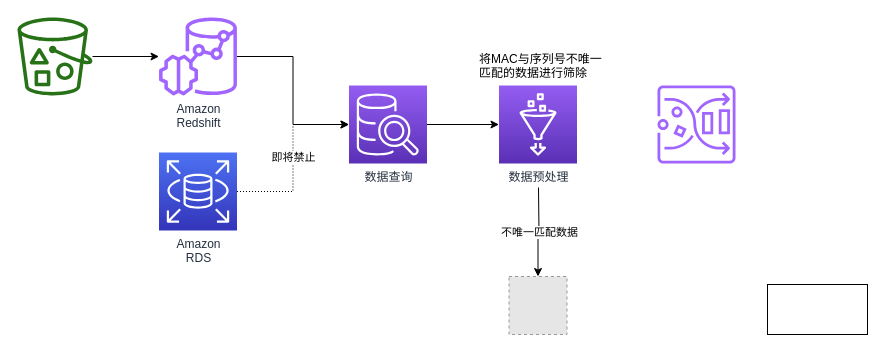
Image size: 885x352. Some labels were removed from this diagram. Grey dashed boxes stand in for pictures. The shapes that lost their labels are listed below. From the top down, each one's centre as x and y in pixels, then its label:
At point (54, 56): "Amazon S3 Bucket".
At point (817, 309): "R&D调查".
